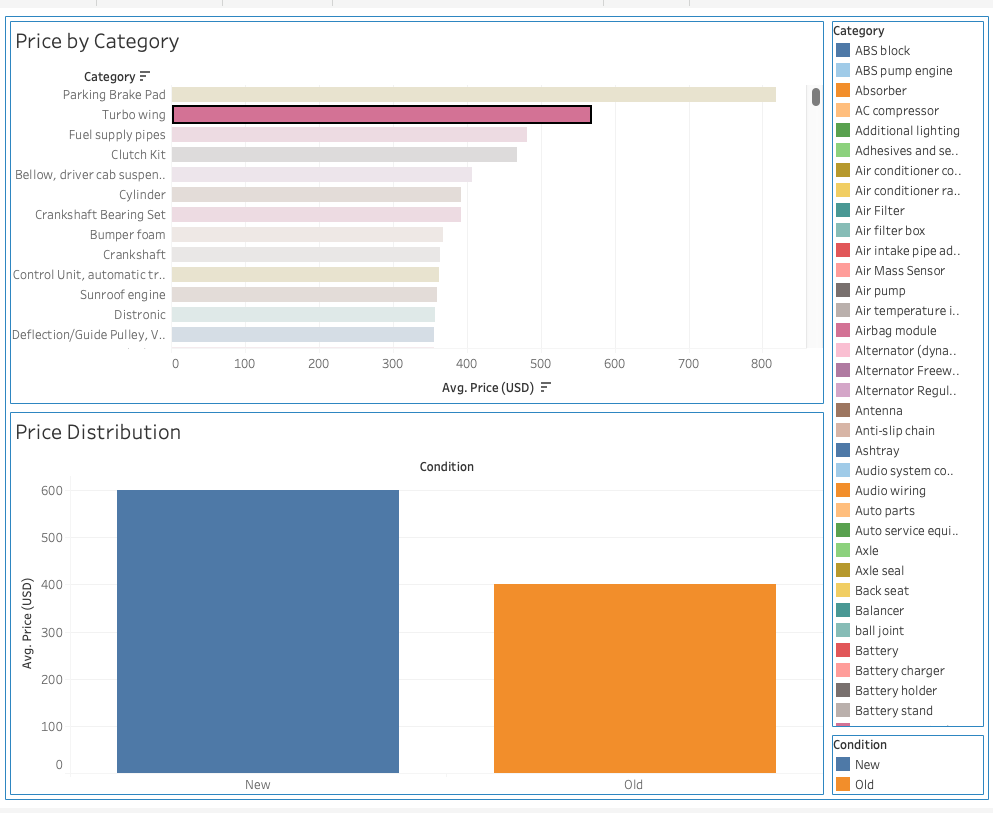

This screenshot's page, from the dashboard's own definition file:
{"tool":"tableau","page":{"name":"Pricing Dashboard","canvas":[1000,800],"ordinal":1},"visuals":[{"type":"worksheet","title":"Price by Category","mark":"Automatic","rows":["Category"],"cols":["Price (USD)"],"box":[9,9,822,391]},{"type":"legend","title":"Price by Category","param":"[federated.004d0pt0lj5fsi1cx3dw90ehjb3p].[none:Category:nk]","box":[831,9,160,714]},{"type":"worksheet","title":"Price Distribution","mark":"Automatic","rows":["Price (USD)"],"cols":["Condition"],"box":[9,400,822,391]},{"type":"legend","title":"Price Distribution","param":"[federated.004d0pt0lj5fsi1cx3dw90ehjb3p].[none:Condition:nk]","box":[831,723,160,68]}]}

Visuals, with their boxes in screenshot pixels (x1, y1, x2, y2), scaled from the page's 1000x800 canvas onto the 993x813 screenshot:
"Price by Category" worksheet: {"left": 9, "top": 9, "right": 825, "bottom": 407}
"Price by Category" legend: {"left": 825, "top": 9, "right": 984, "bottom": 735}
"Price Distribution" worksheet: {"left": 9, "top": 407, "right": 825, "bottom": 804}
"Price Distribution" legend: {"left": 825, "top": 735, "right": 984, "bottom": 804}
